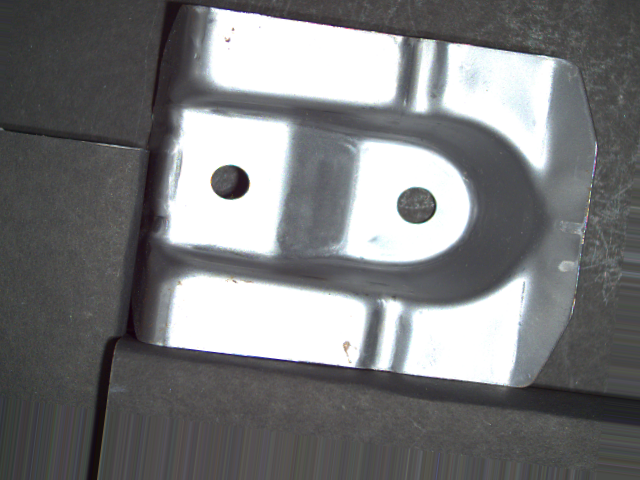defect: (392, 182, 441, 227)
